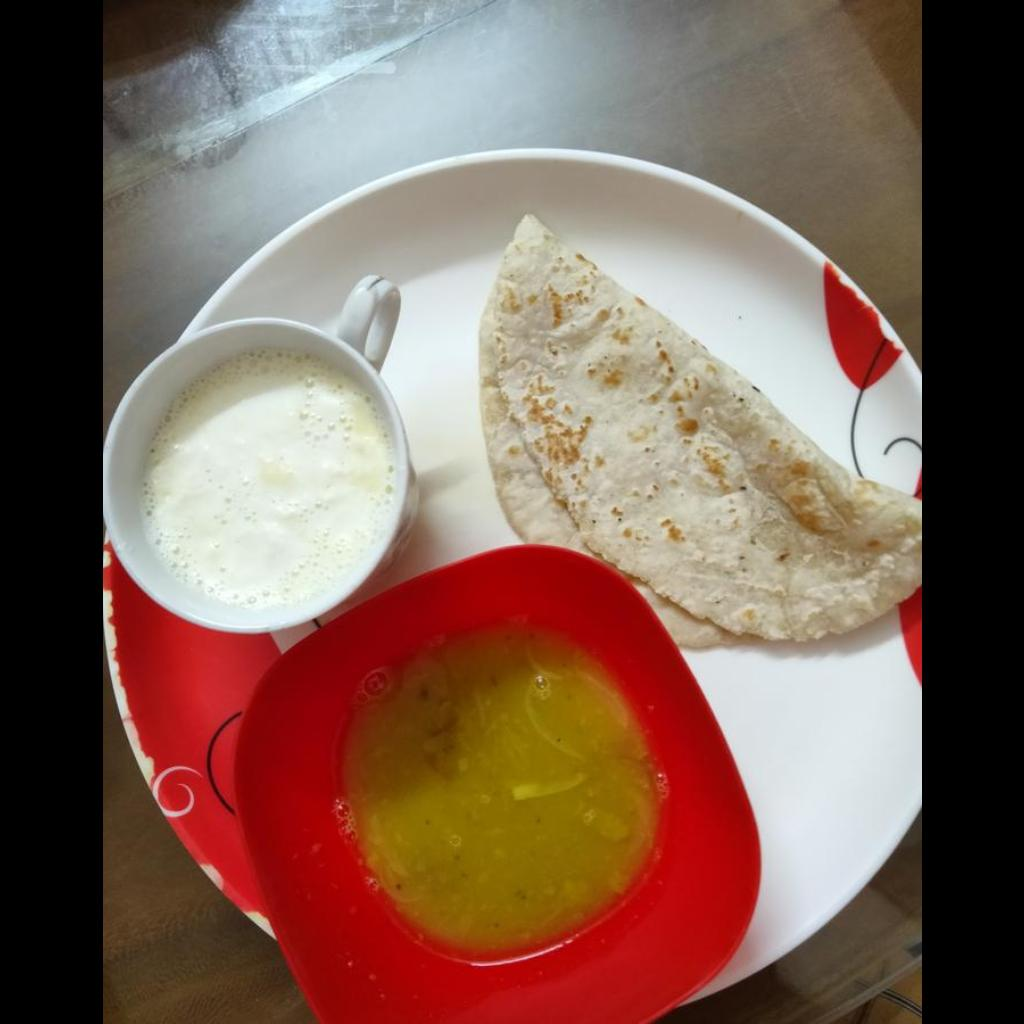daal: (339, 628, 656, 955)
milk: (138, 357, 387, 606)
ruti: (477, 211, 920, 648)
